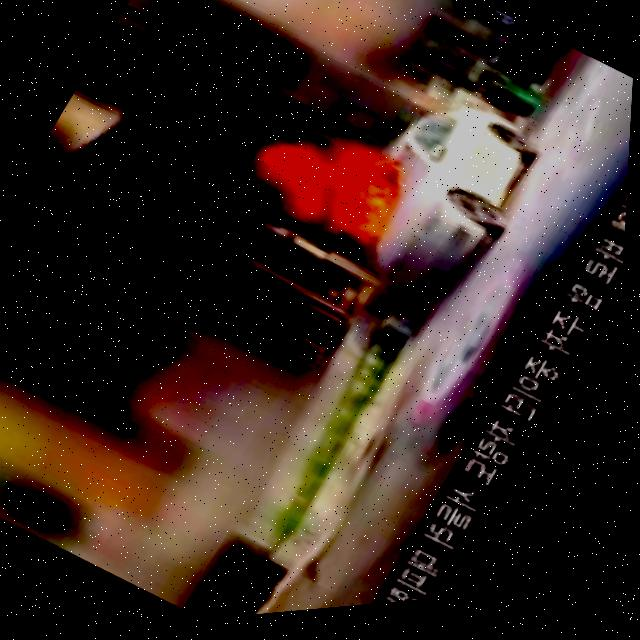Fire: (222, 87, 433, 279)
Smoke: (13, 0, 321, 302)
